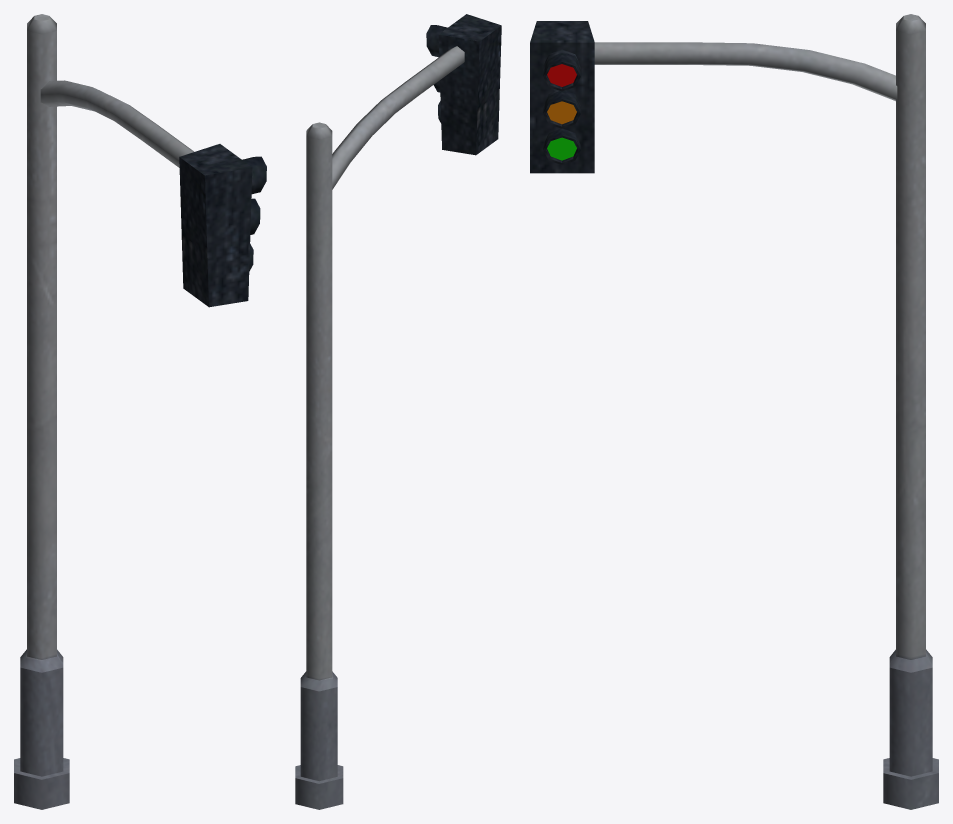
Rendered from TrafficLights.fbx.
3 views of the same model, side by side, from view 1: azimuth 30°, elevation 25°; view 2: azimuth 150°, elevation 25°; view 3: azimuth 270°, elevation 25° (orthographic). The views are drawn at different scales.
Visible parts, largest first — view 1: LightPost, TeafficLightBox, SidePost; view 2: LightPost, TeafficLightBox, SidePost; view 3: LightPost, TeafficLightBox, SidePost.
Boxes of the visible parts, x1=… form: LightPost: x1=14, y1=14, x2=69, y2=809; TeafficLightBox: x1=179, y1=144, x2=266, y2=307; SidePost: x1=40, y1=80, x2=194, y2=167; LightPost: x1=295, y1=122, x2=343, y2=809; TeafficLightBox: x1=426, y1=14, x2=501, y2=155; SidePost: x1=332, y1=46, x2=464, y2=189; LightPost: x1=883, y1=14, x2=938, y2=809; TeafficLightBox: x1=530, y1=21, x2=594, y2=173; SidePost: x1=594, y1=42, x2=897, y2=101.
Size of the model in its own units: 0.6747 by 6.87 by 3.27.
